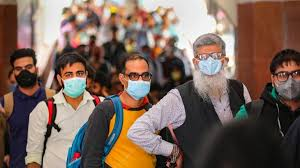mask: (191, 40, 230, 80), (123, 58, 154, 101), (59, 60, 90, 101), (272, 59, 300, 103), (12, 55, 39, 89)
